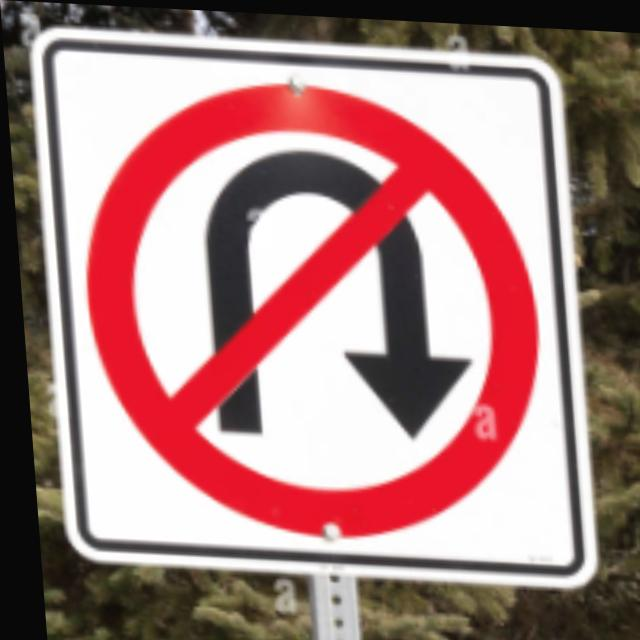not_u_turn_right: (72, 48, 556, 558)
